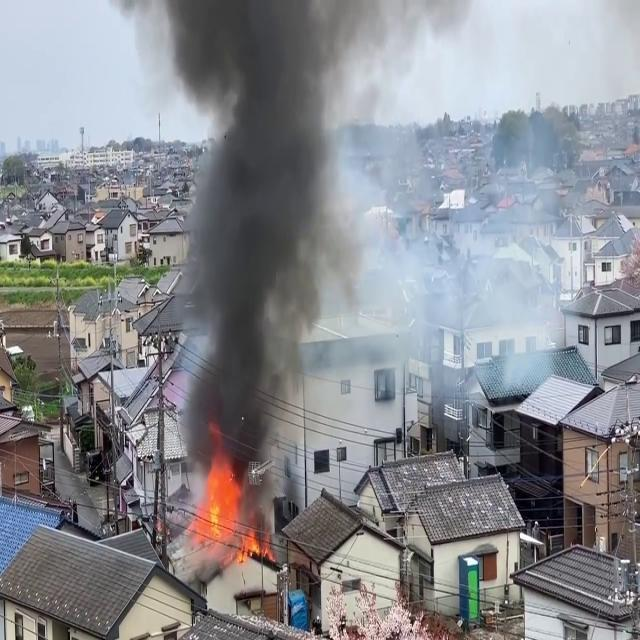Fire: (188, 460, 264, 558)
Smoke: (163, 0, 356, 484)
